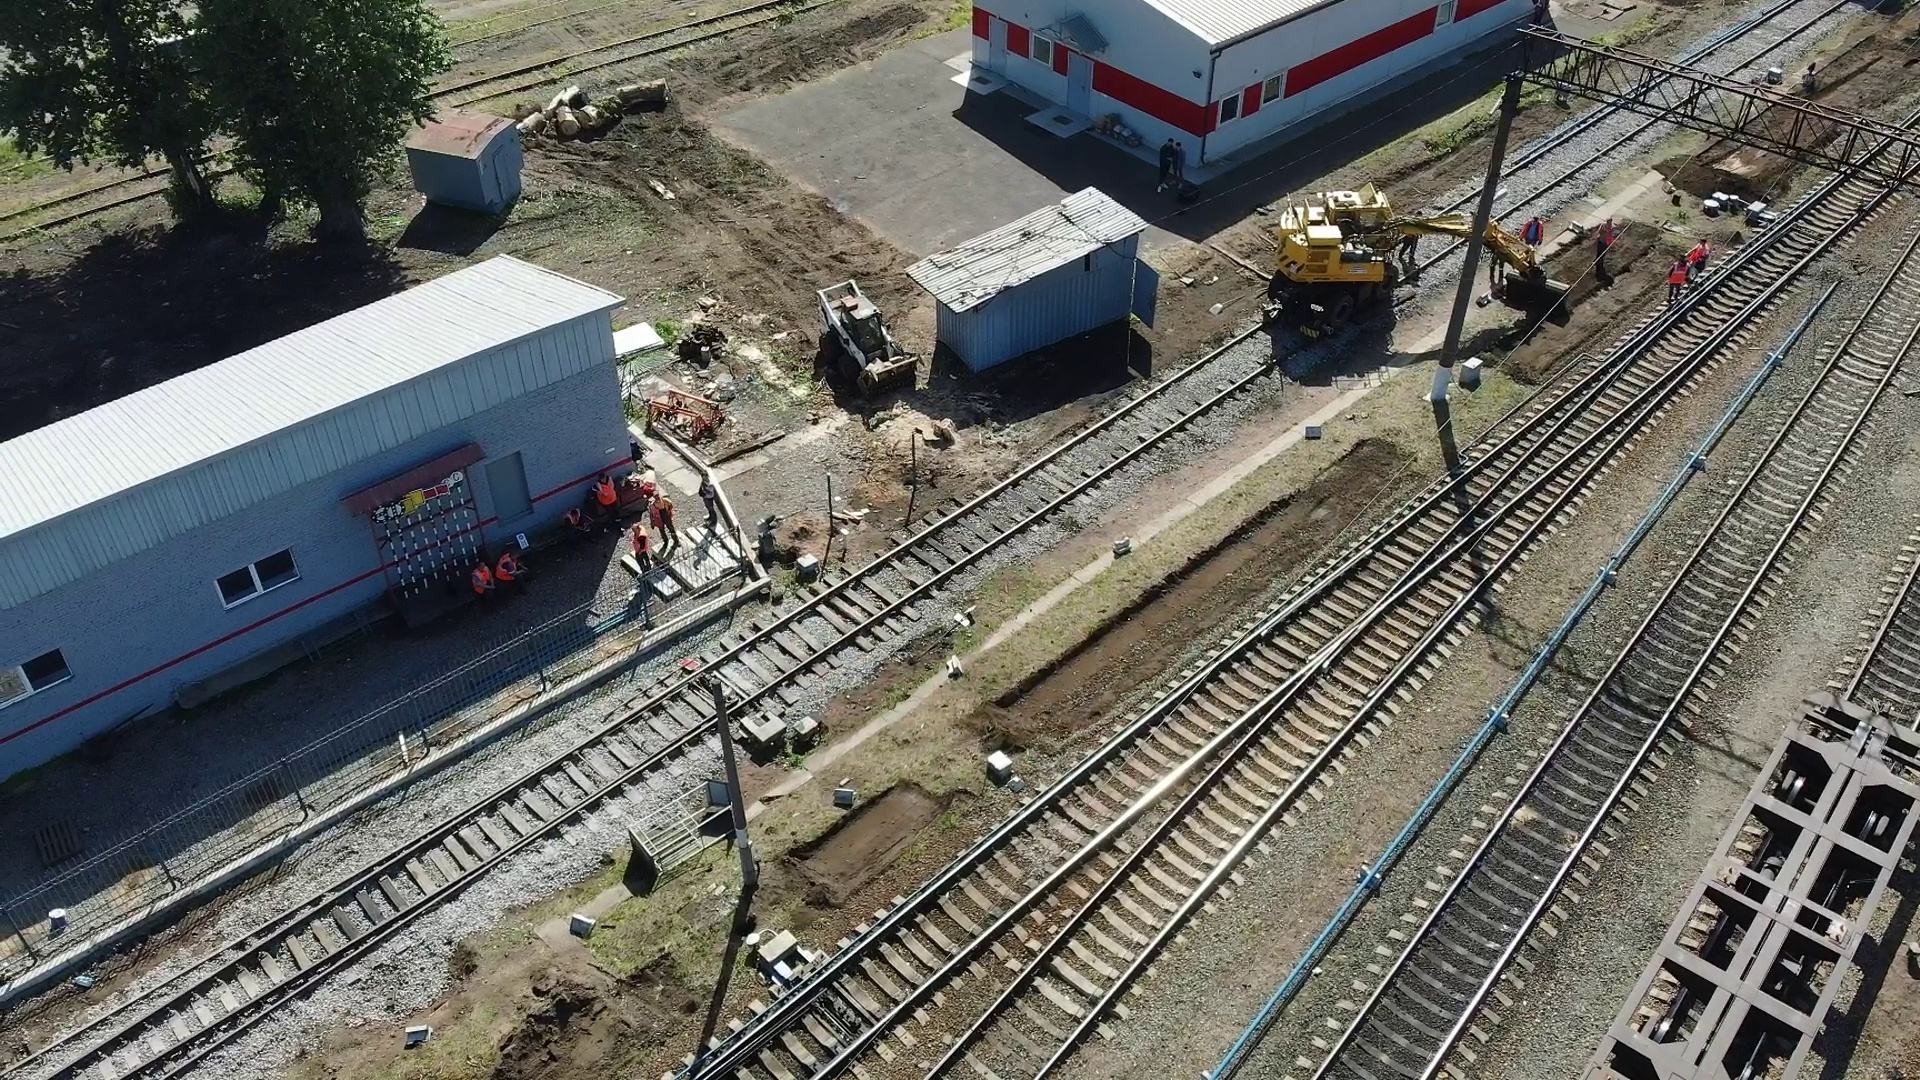kjtv: (1269, 185, 1482, 344)
